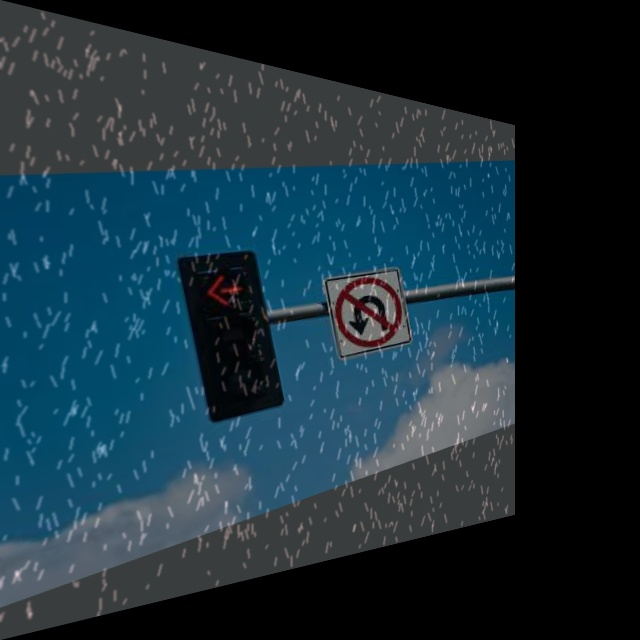U_Turn_Prohibited: (326, 265, 410, 357)
